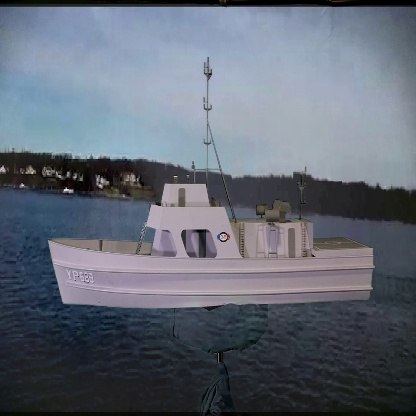YP689: (46, 51, 374, 308)
